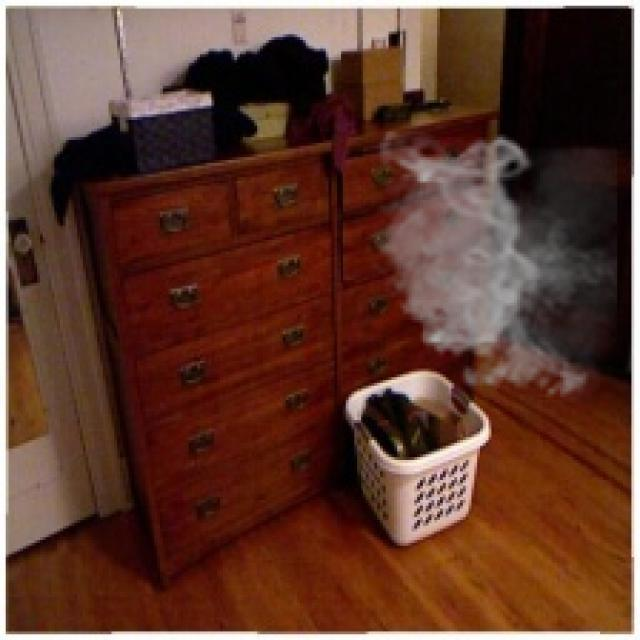Smoke: (366, 131, 618, 406)
